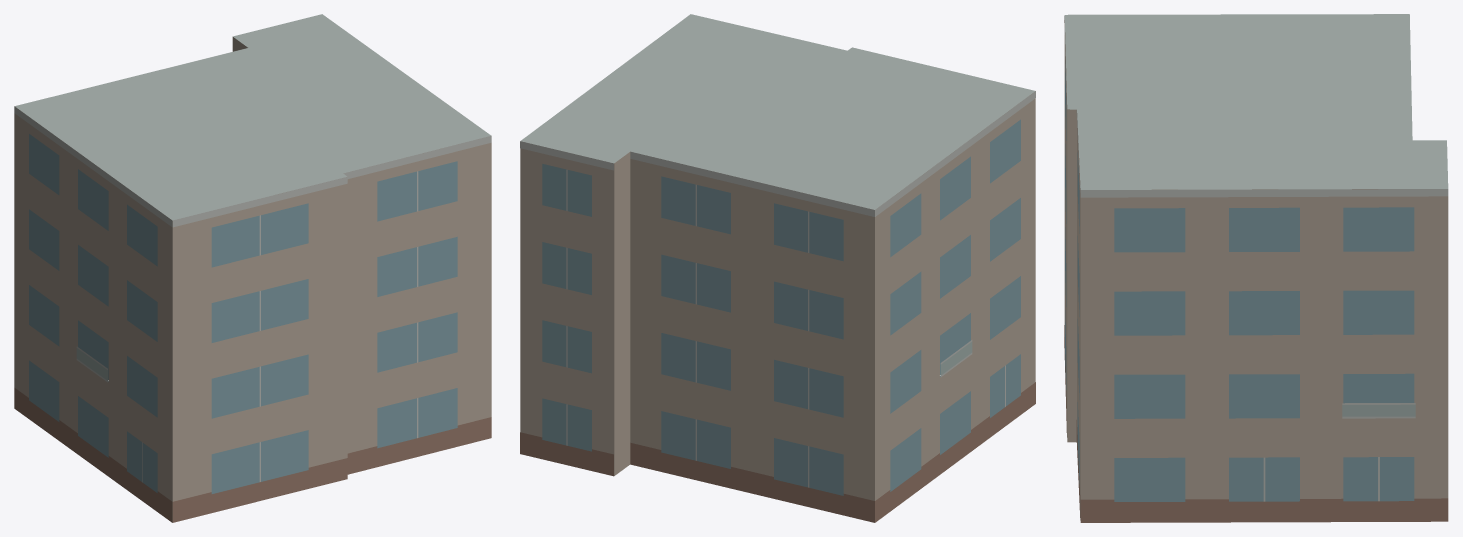
File: survey-upis-32738099.glb
The picture shows the model from 3 angles, left to right: view 1: azimuth 30°, elevation 25°; view 2: azimuth 150°, elevation 25°; view 3: azimuth 270°, elevation 25°; orthographic projection. The views are drawn at different scales.
Parts seen in each view (by area): view 1: survey-upis-32738099.tmp; view 2: survey-upis-32738099.tmp; view 3: survey-upis-32738099.tmp.
Part boxes in pixels (box(x1,y1,x2,y2)): survey-upis-32738099.tmp: box(14, 14, 491, 522); survey-upis-32738099.tmp: box(520, 14, 1035, 522); survey-upis-32738099.tmp: box(1064, 14, 1448, 522).
Size of the model in its own units: 12.1 by 10.65 by 11.14.
